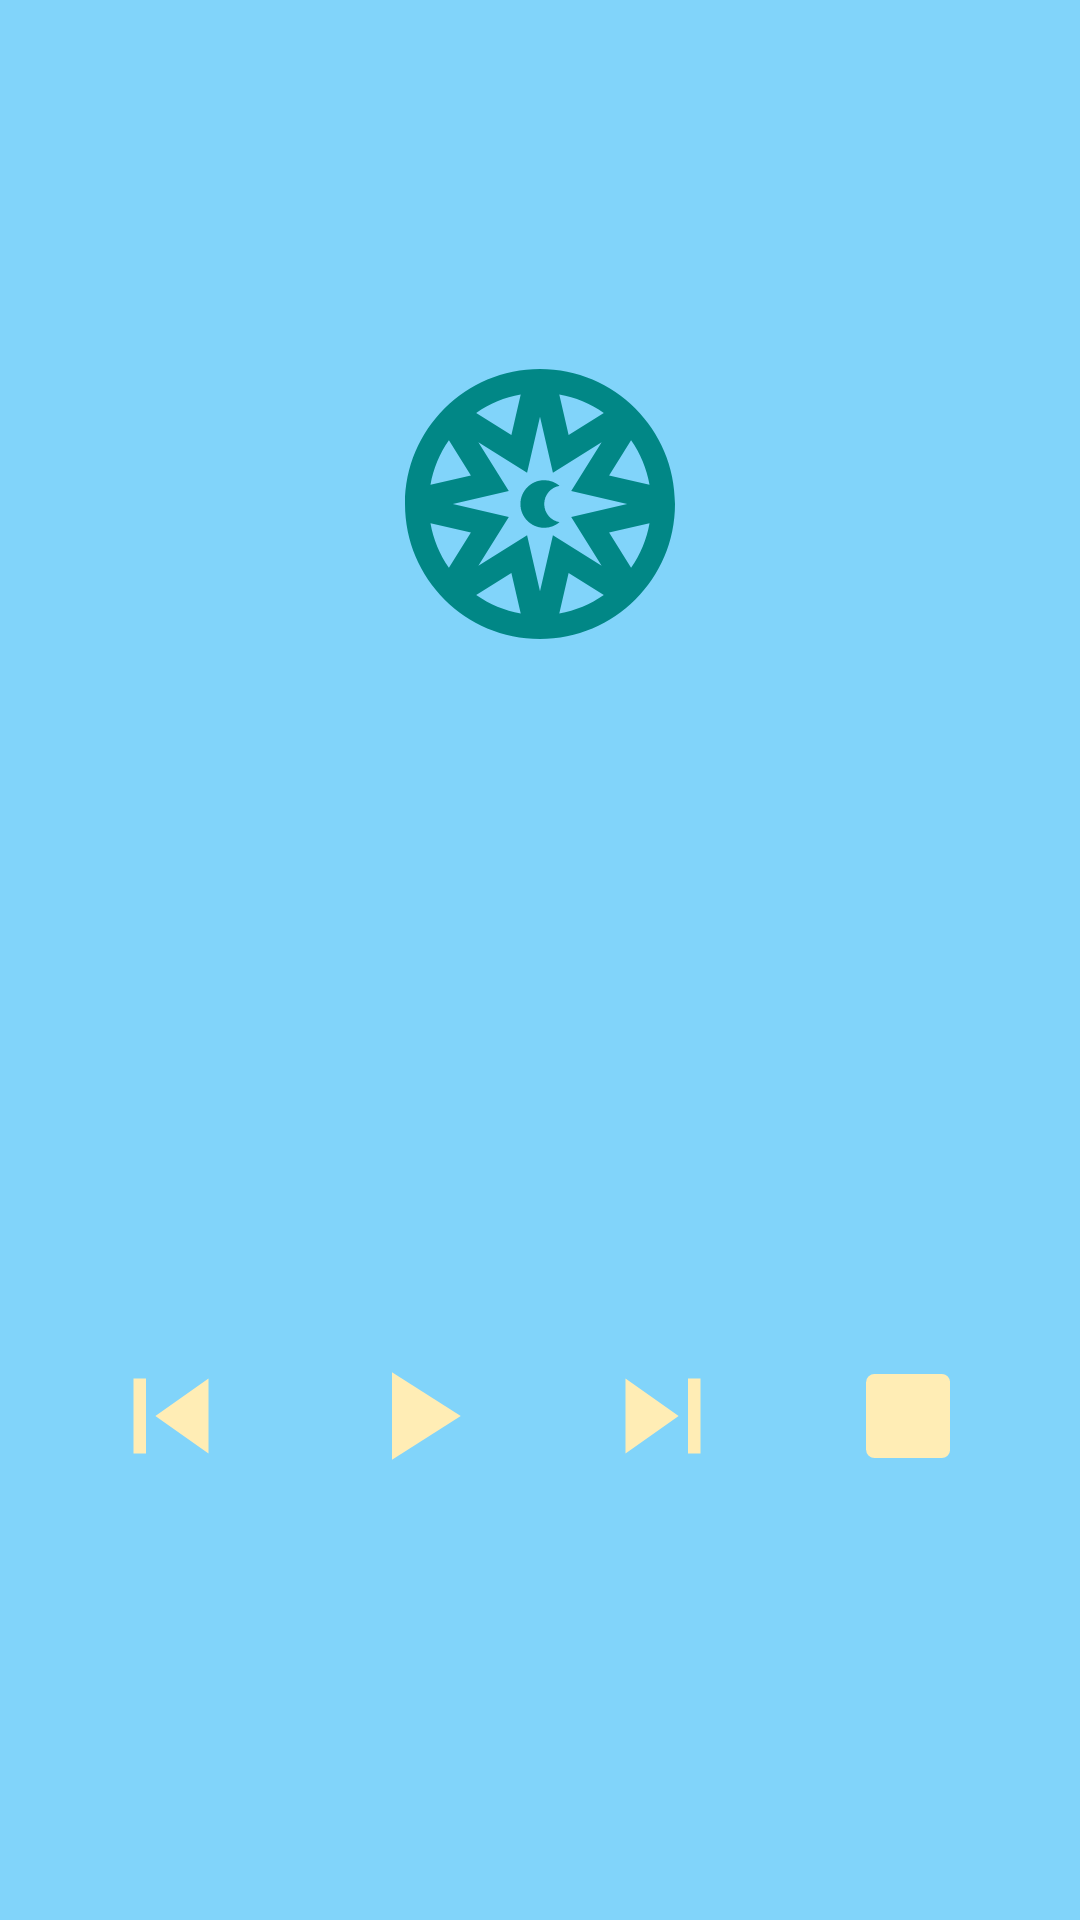

Icon click points for this 1080x1920 phone screenshot, format (x=x, y=y):
horoscope: (x=540, y=504)
play arrow: (x=426, y=1416)
skip next: (x=663, y=1416)
skip previous: (x=171, y=1416)
